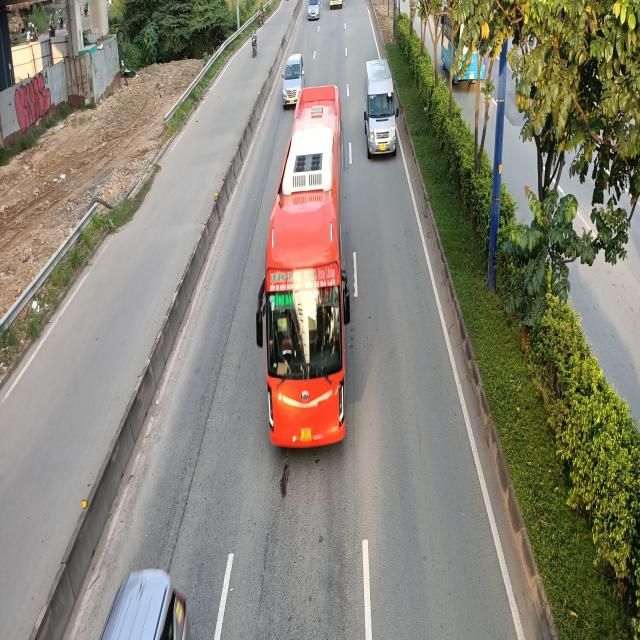car: (282, 53, 304, 108)
coach: (252, 85, 352, 449)
van: (362, 59, 399, 158)
